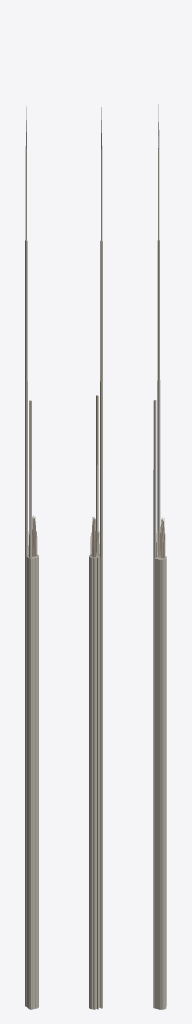
Rendered from catedral.glb.
The picture shows the model from 3 angles, left to right: view 1: azimuth 30°, elevation 25°; view 2: azimuth 210°, elevation 25°; view 3: azimuth 330°, elevation 25°; orthographic projection.
Visible parts, largest first — view 1: catedral-de-malaga; view 2: catedral-de-malaga; view 3: catedral-de-malaga.
Boxes of the visible parts, box(x1,y1,x2,y2) form: catedral-de-malaga: box(25, 106, 38, 1009); catedral-de-malaga: box(89, 107, 102, 1009); catedral-de-malaga: box(153, 104, 166, 1009).
Size of the model in its own units: 1 by 92 by 1.
